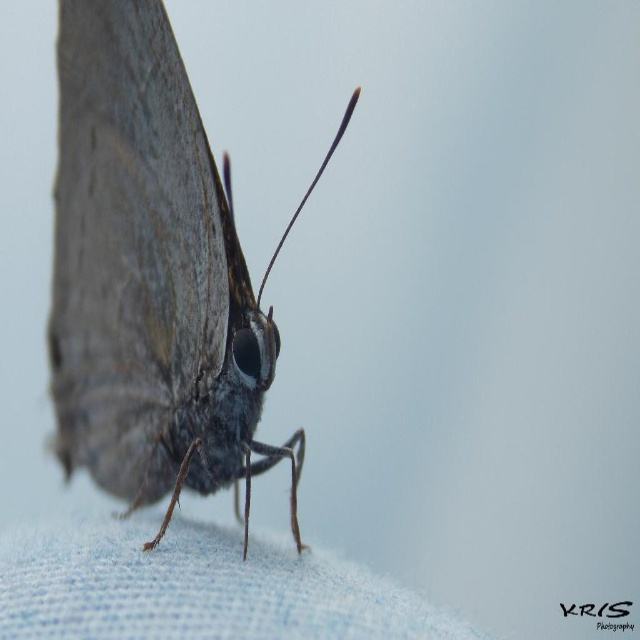Butterfly: (43, 0, 362, 567)
